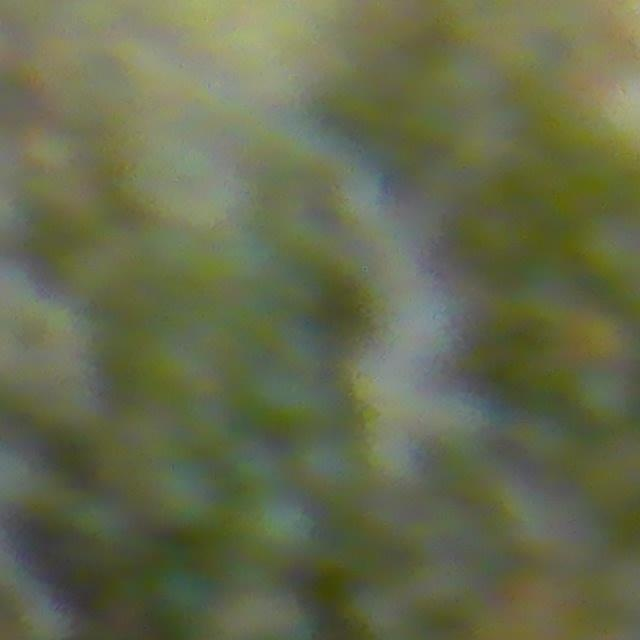SeaGrape: (233, 485, 319, 571), (147, 456, 228, 537), (293, 429, 367, 505), (148, 559, 219, 629), (572, 362, 638, 430), (223, 430, 284, 490)
